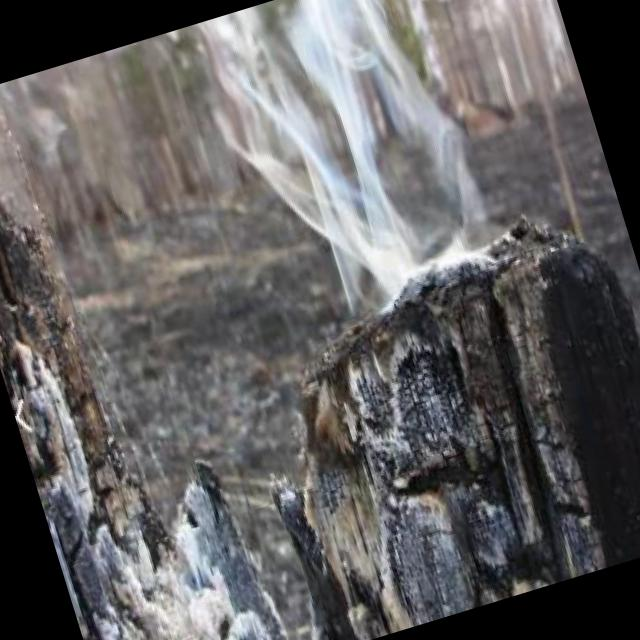smoke: (188, 0, 531, 351)
